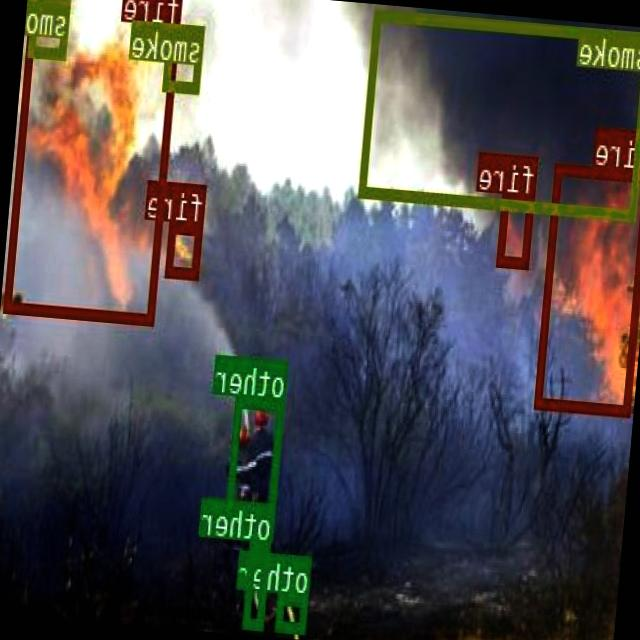fire: (4, 0, 185, 321), (536, 162, 640, 414), (498, 193, 534, 267), (167, 220, 204, 278)
smoke: (359, 7, 640, 220), (164, 23, 206, 90), (29, 0, 72, 56)
